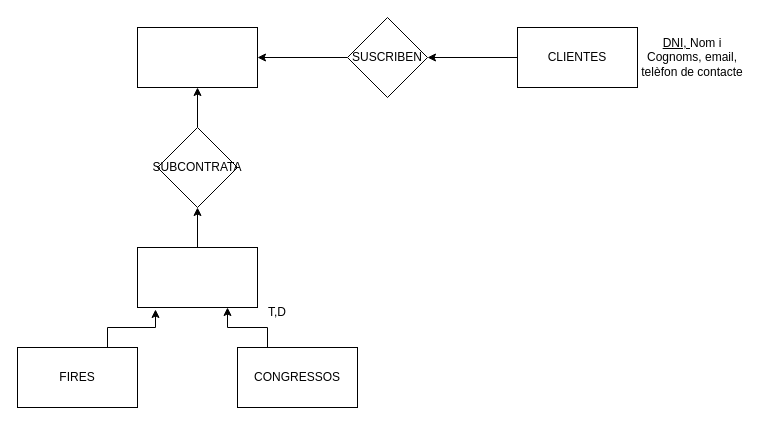
Some shapes in this 765 by 425 pixel diagram are drawn without their labels. Here are the shapes that lost their labels. From the top down, the centre of each, then its label:
(197,57): EMPRESA
(197,277): ESDEVENIMENTS
